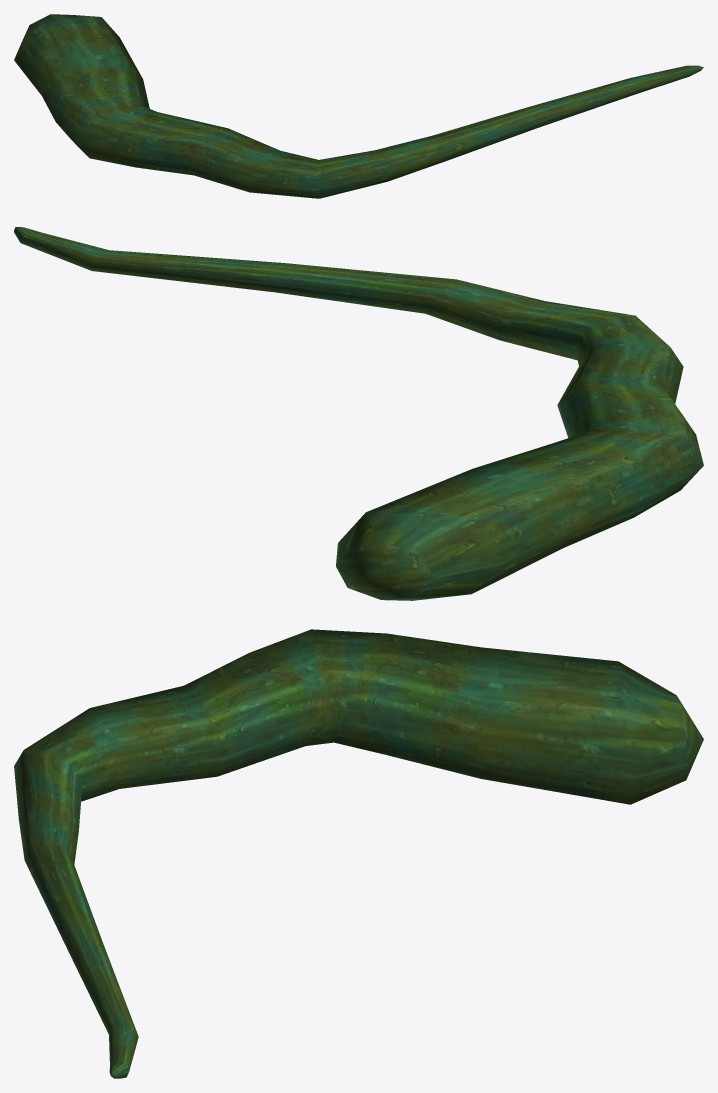
File: INST_MIRK_BIGTREE_BRANCHC.fbx
3 views of the same model, one above another, from view 1: azimuth 30°, elevation 25°; view 2: azimuth 150°, elevation 25°; view 3: azimuth 270°, elevation 25° (orthographic). The views are drawn at different scales.
Visible parts, largest first — view 1: INST_MIRK_BIGTREE_BRANCHC; view 2: INST_MIRK_BIGTREE_BRANCHC; view 3: INST_MIRK_BIGTREE_BRANCHC.
Part boxes in pixels (x1,y1,x2,y2): INST_MIRK_BIGTREE_BRANCHC: (14,14,703,198); INST_MIRK_BIGTREE_BRANCHC: (14,227,703,600); INST_MIRK_BIGTREE_BRANCHC: (14,629,703,1078).
Bounding box in the file's own units: 310436 × 33443 × 222916.
Materials: 1 (1 with a texture image).
